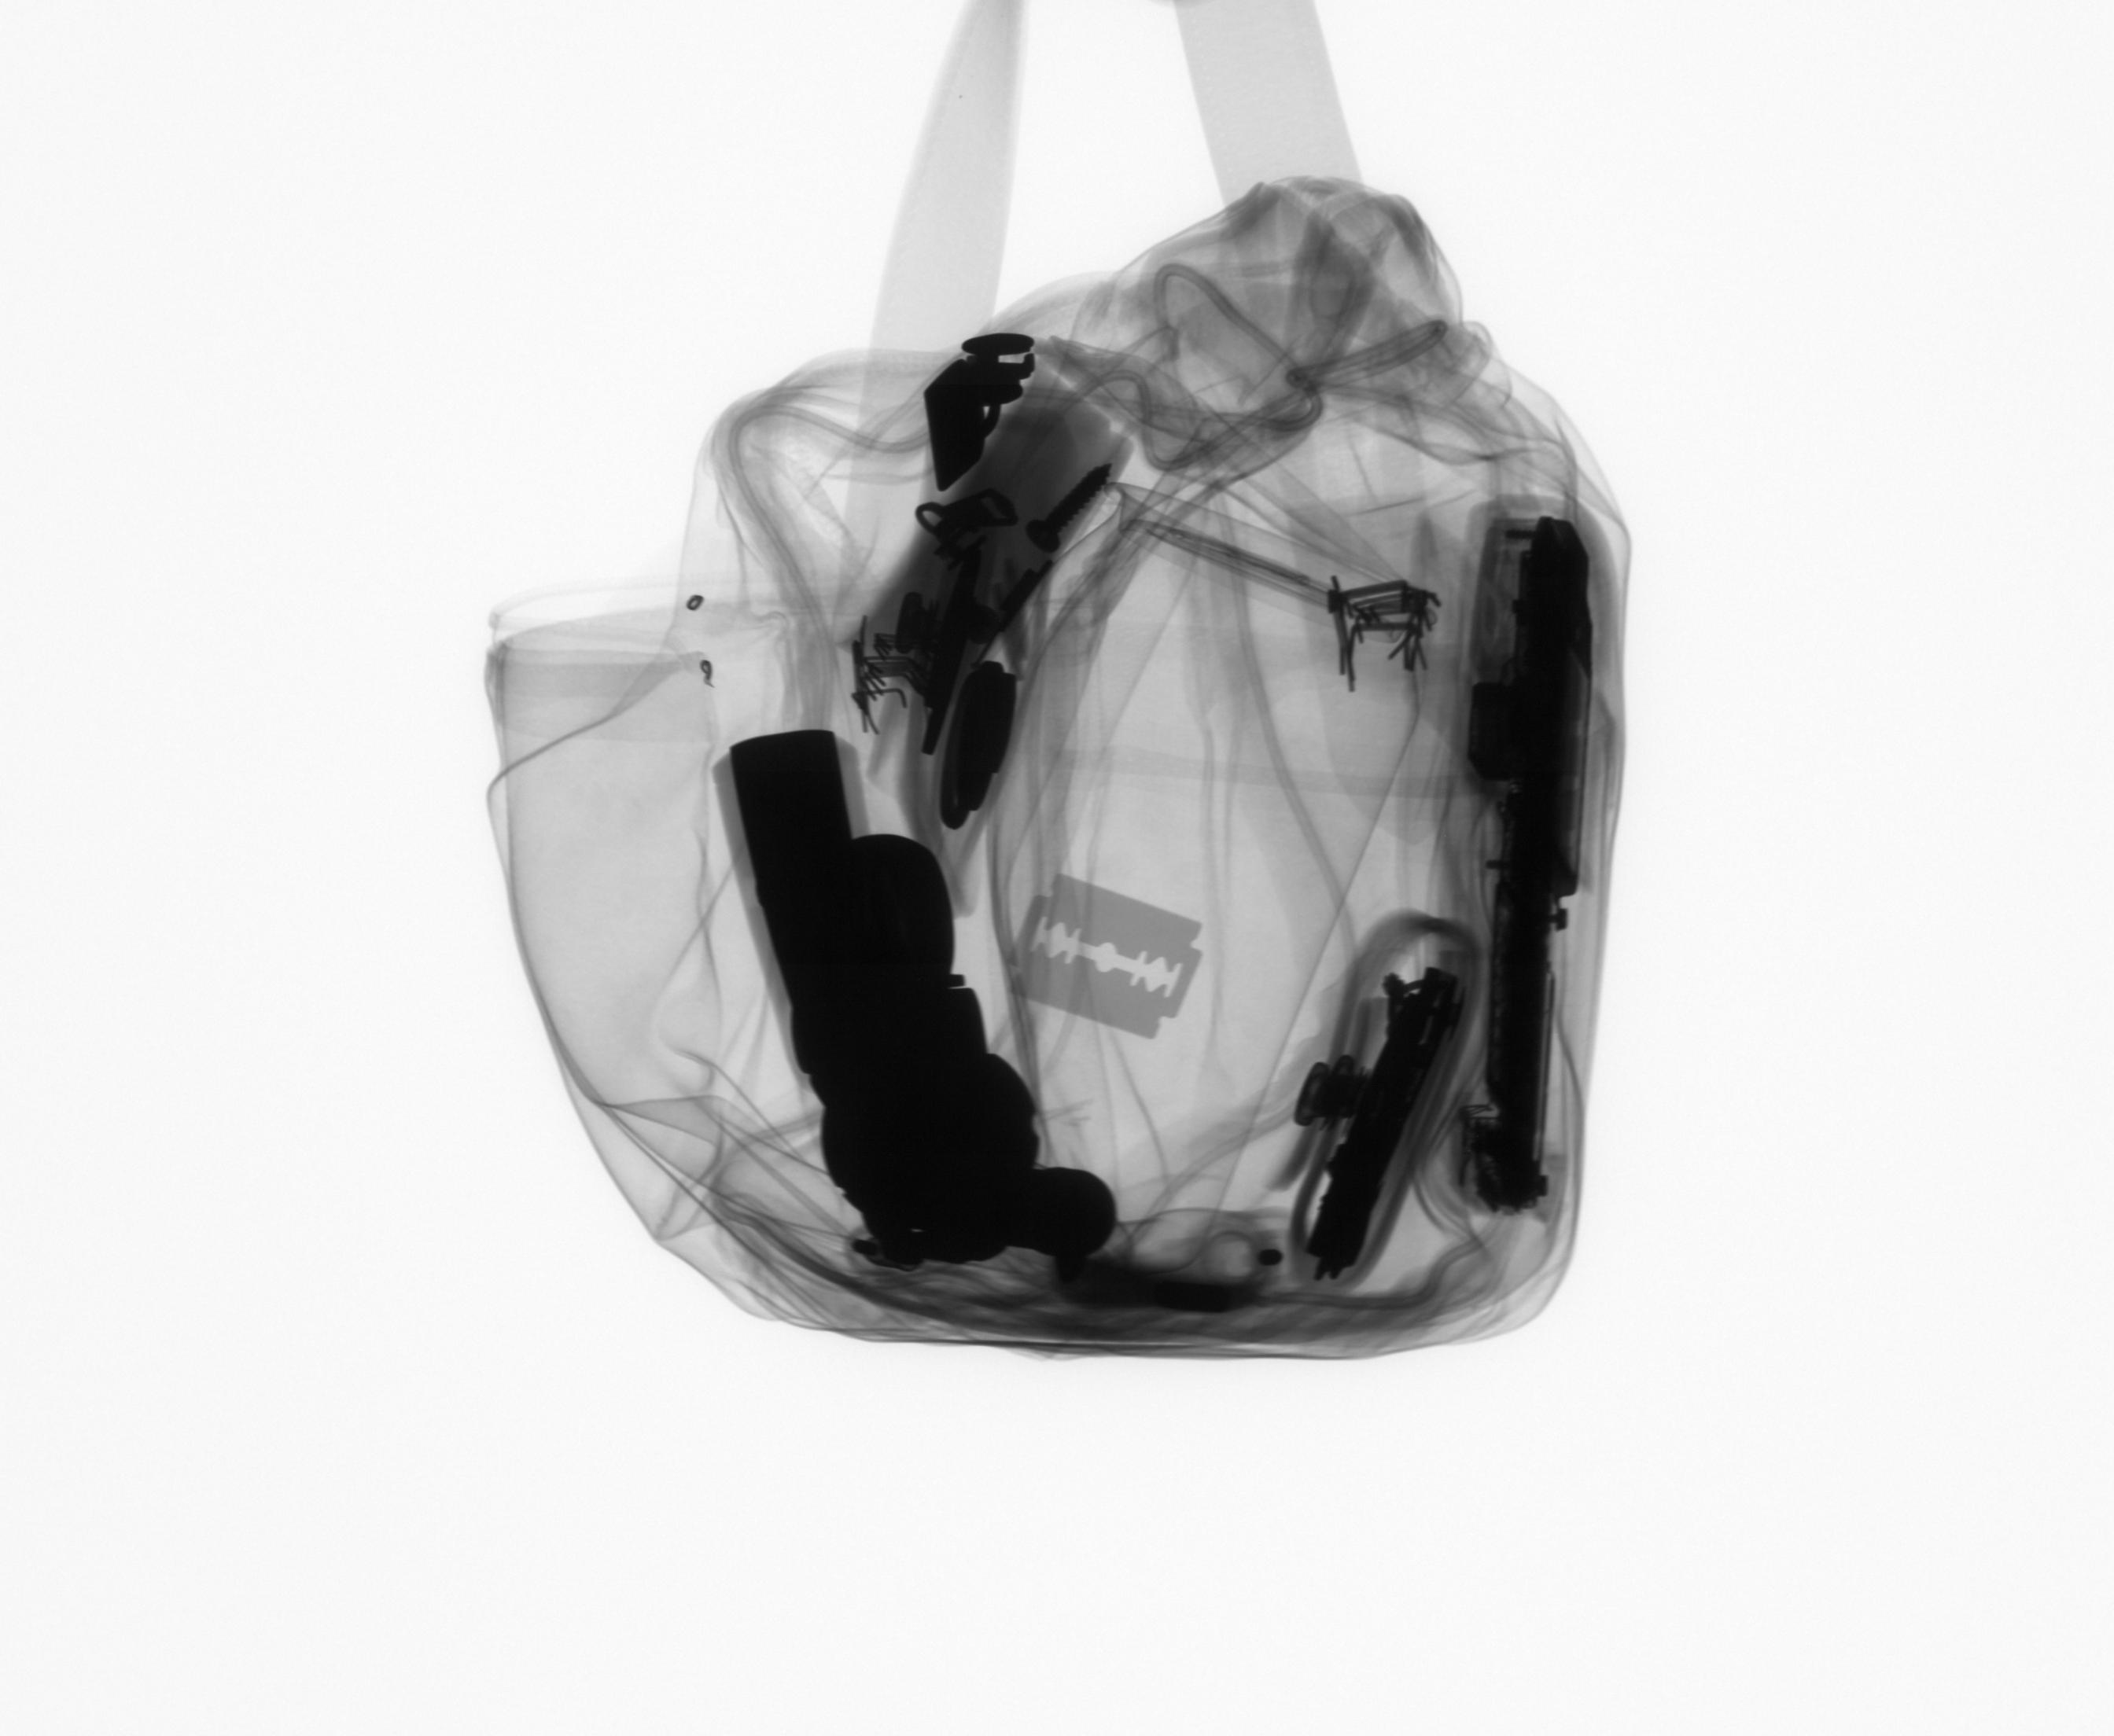Handgun: (702, 721, 1127, 1283)
RazorBlade: (999, 865, 1210, 1050)
